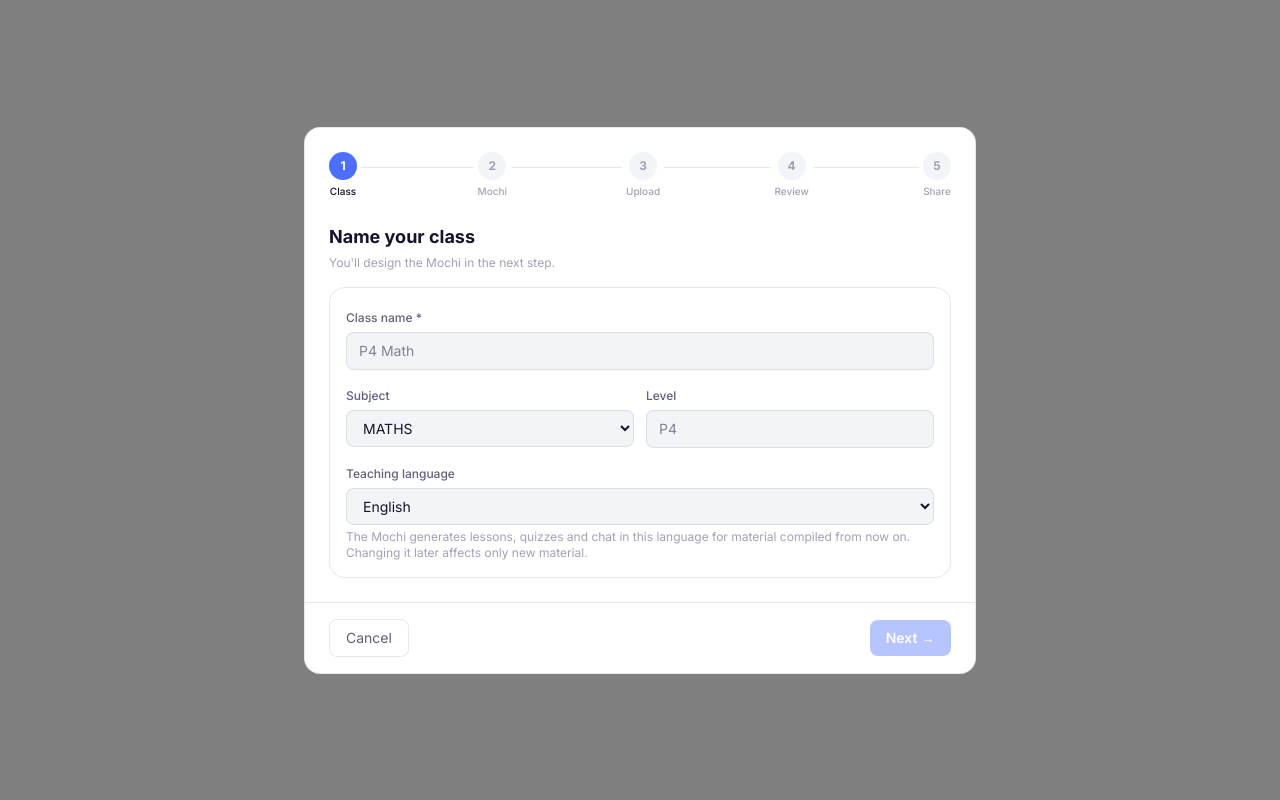
Test: CreateClassModal — step 1 (identity) › Next goes back to disabled when name is cleared
The width and height of the screenshot is (1280, 800).
In the field with placeholder "P4 Math": (640, 350) x1=346 y1=332 x2=934 y2=370, type "P4 Science"
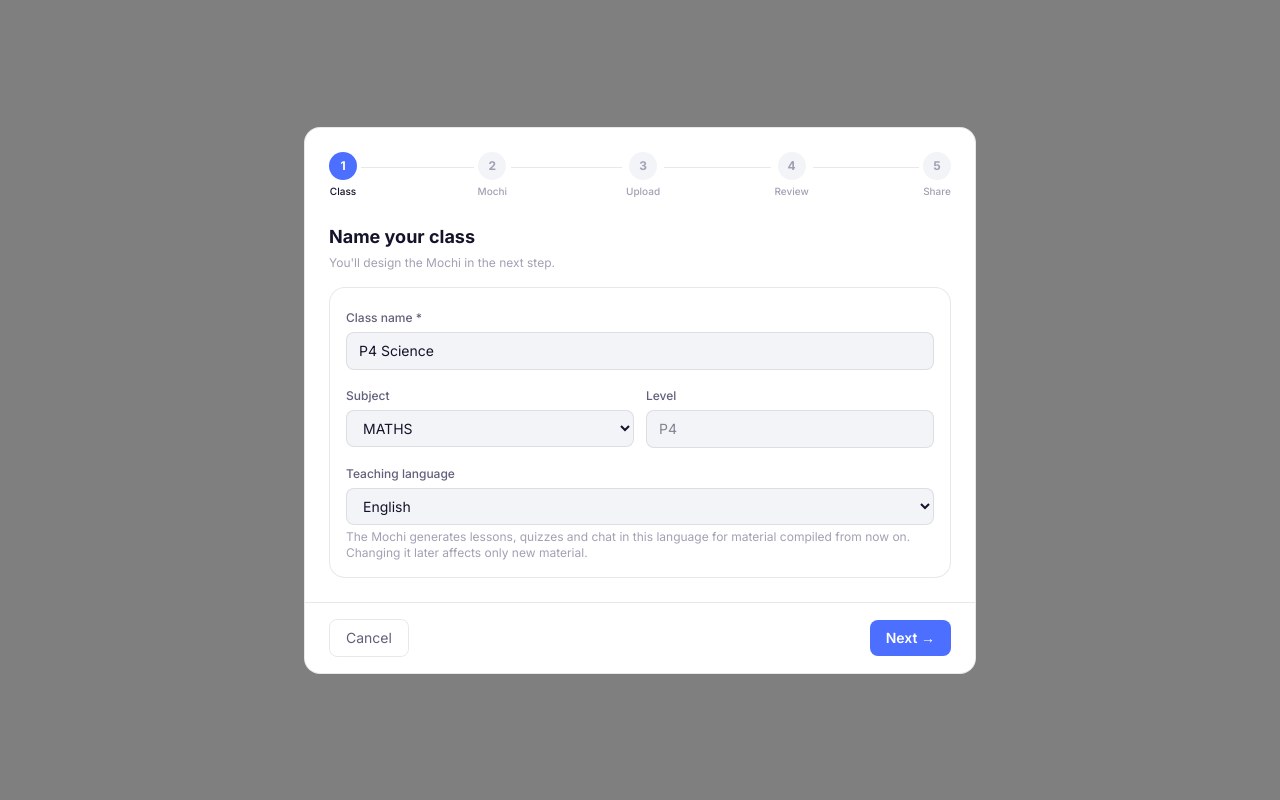
Clear the field with placeholder "P4 Math": (640, 350) x1=346 y1=332 x2=934 y2=370
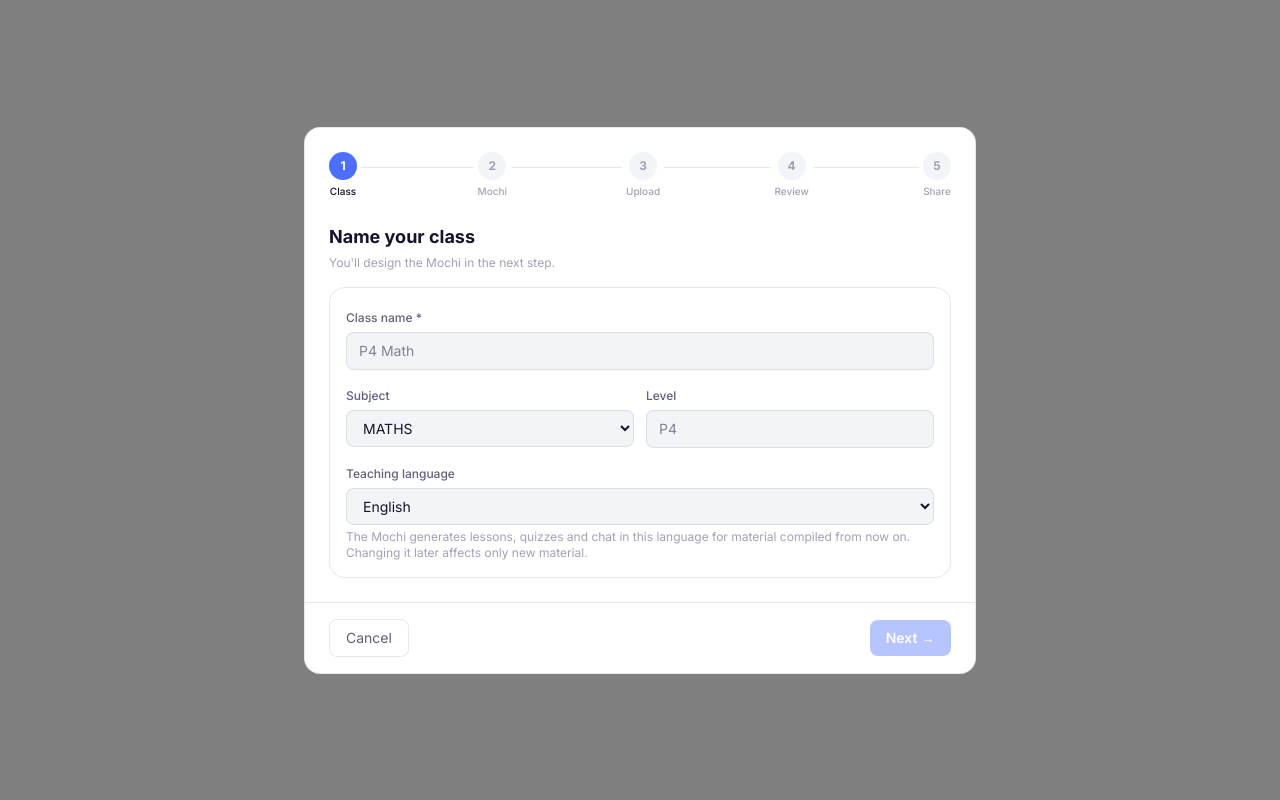
Check: the button "Next →" is disabled, box x1=870 y1=620 x2=951 y2=656
